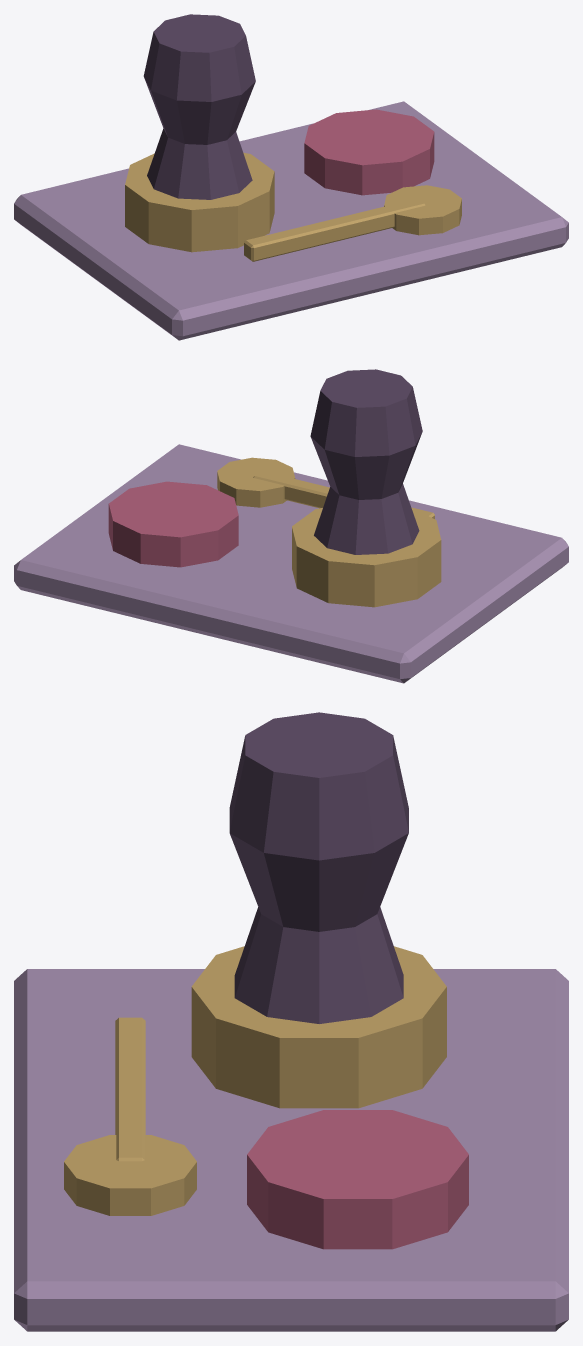
File: 12_Wax_Seal_Set.glb
The picture shows the model from 3 angles, top to bottom: view 1: azimuth 30°, elevation 25°; view 2: azimuth 150°, elevation 25°; view 3: azimuth 270°, elevation 25°; orthographic projection. The views are drawn at different scales.
Visible parts, largest first — view 1: 12_Wax_Seal_Set__Body; view 2: 12_Wax_Seal_Set__Body; view 3: 12_Wax_Seal_Set__Body.
Boxes of the visible parts, <box> form: 12_Wax_Seal_Set__Body: <box>14,14,568,340</box>; 12_Wax_Seal_Set__Body: <box>14,369,568,683</box>; 12_Wax_Seal_Set__Body: <box>14,712,568,1331</box>.
Size of the model in its own units: 1.38 by 0.72 by 1.
1 material, 1 textured.
